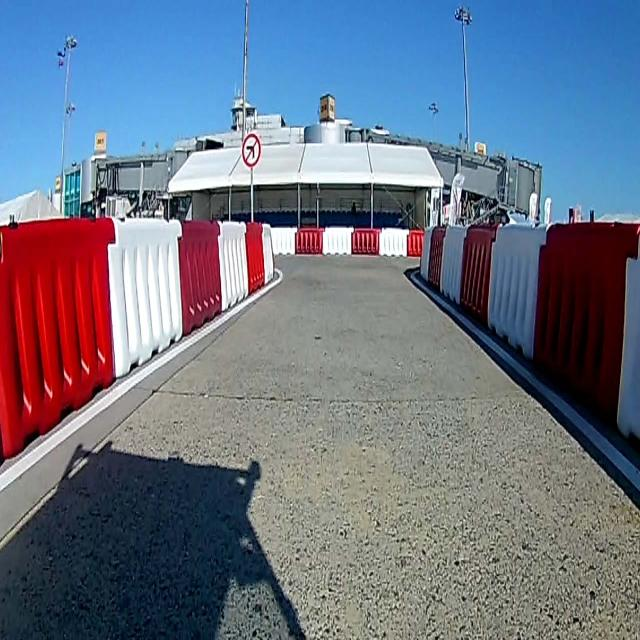soladonulmez: (242, 134, 260, 166)
